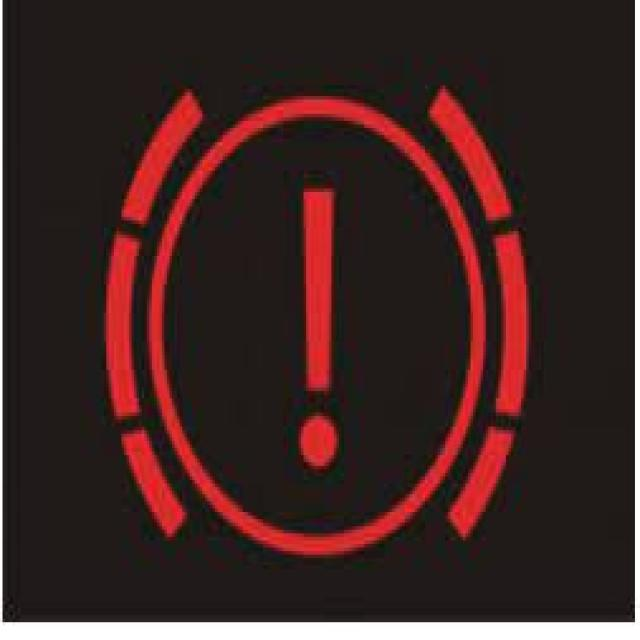kontrolka: (93, 62, 552, 564)
